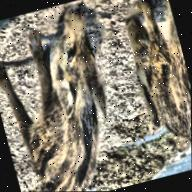boar: (0, 8, 130, 192)
